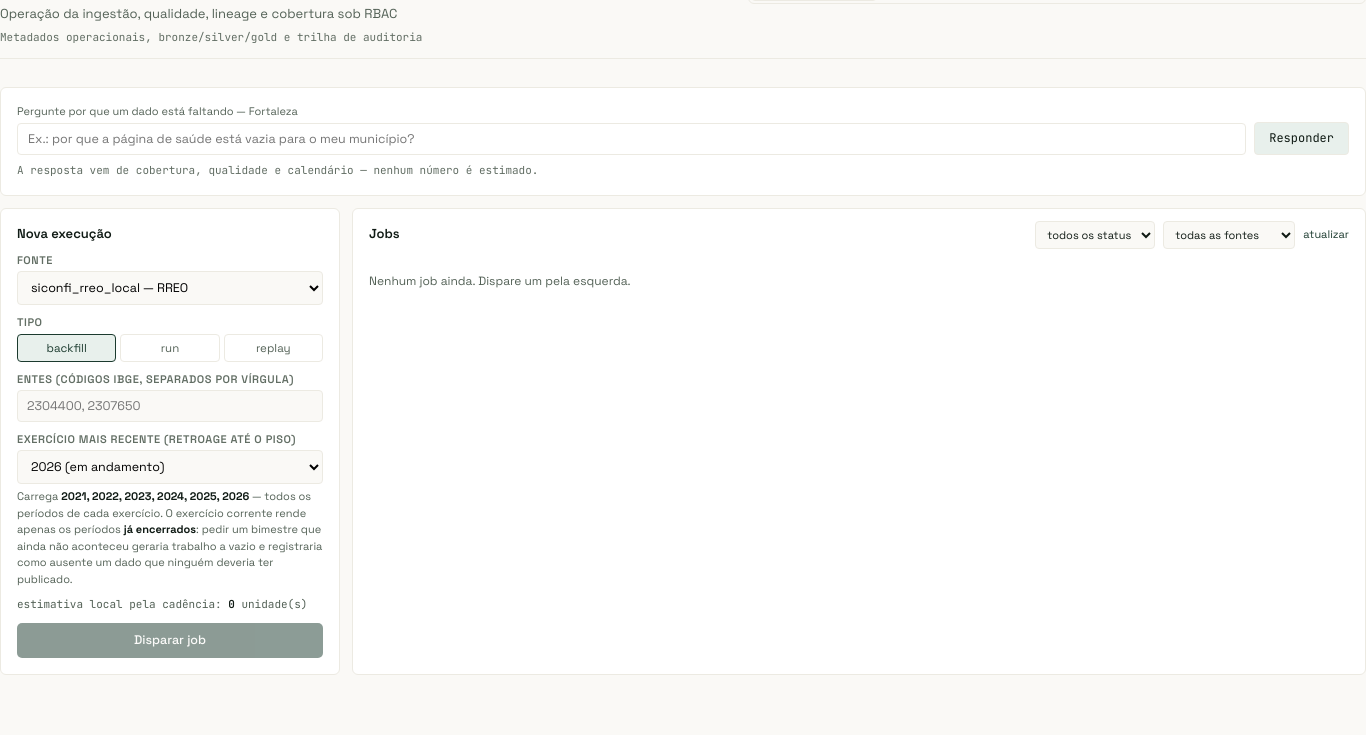
Scenario: Central de Dados — confirmação e polling › diz quantos municípios ficaram de fora do escopo — não silencia a exclusão
Type "23" into the field labelled "Entes (códigos IBGE, separados por vírgula)".
click(170, 406); type("23")  # box [17,390,323,422]
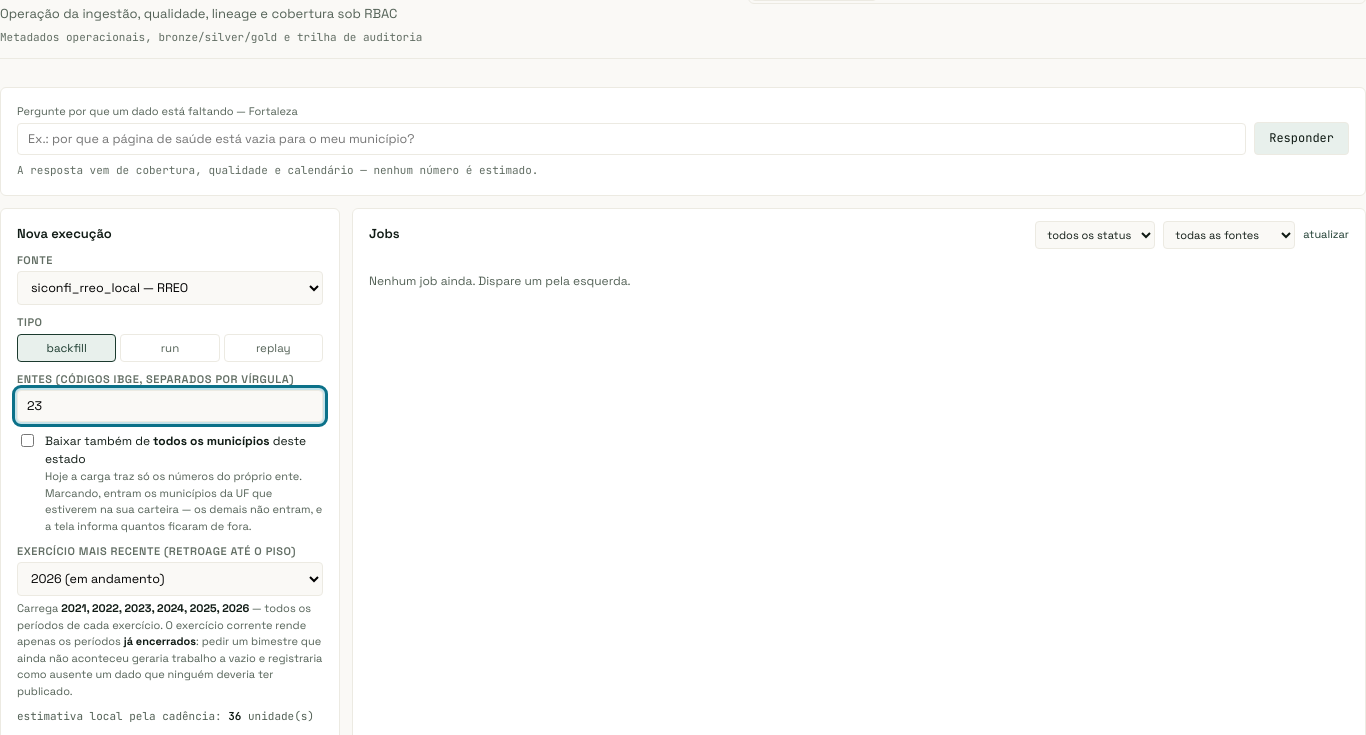
Click the checkbox labelled "todos os municípios".
click(28, 440)  # box [21,434,34,447]
(page scrolled)
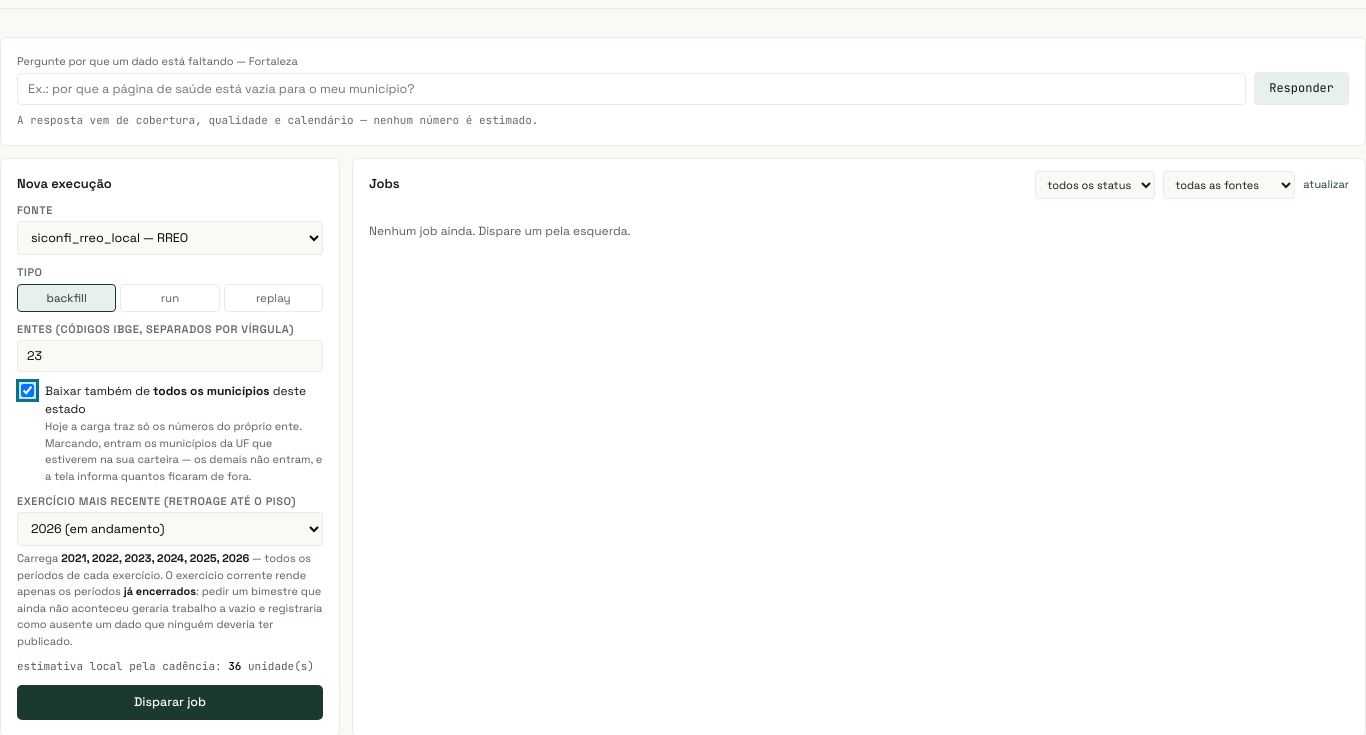
Click the button "Disparar job".
click(170, 703)  # box [17,685,323,720]
(page scrolled)
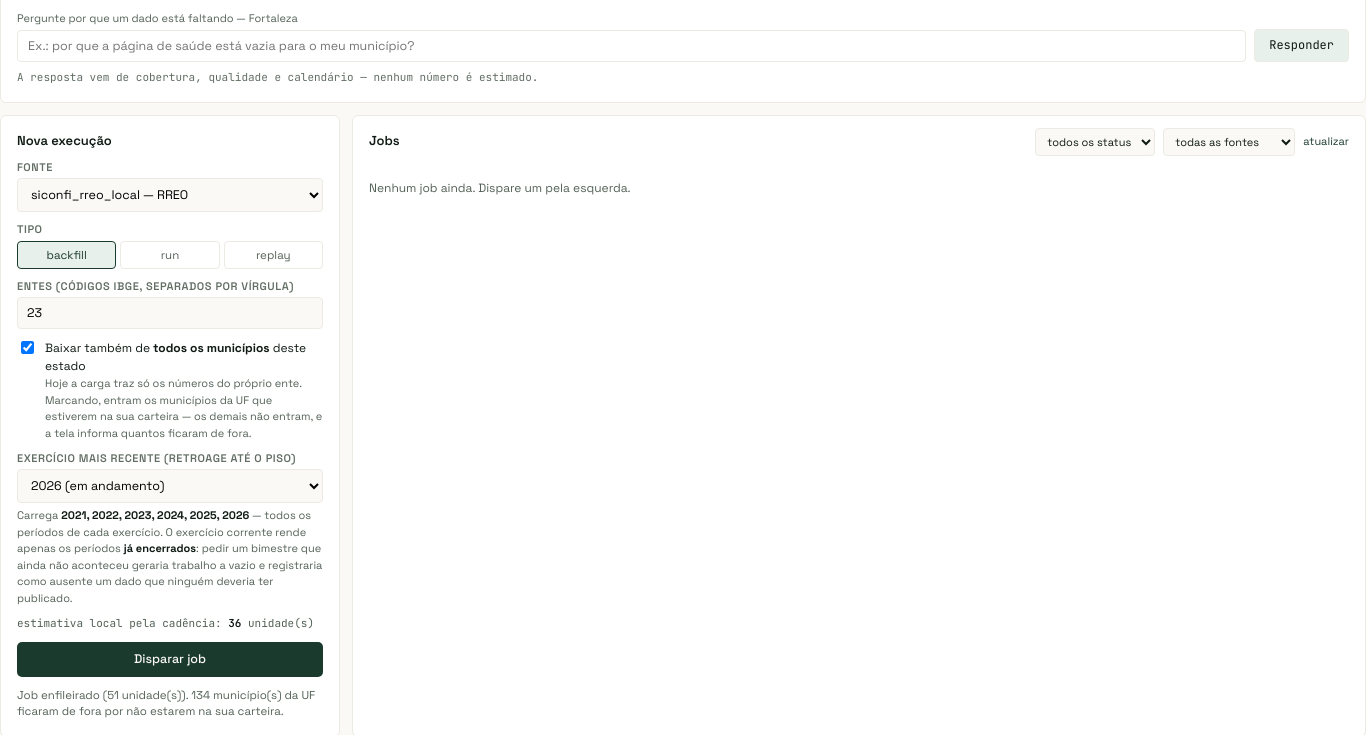
Now the text "134 município(s) da UF ficaram de fora" is shown, box [17,688,315,718]
